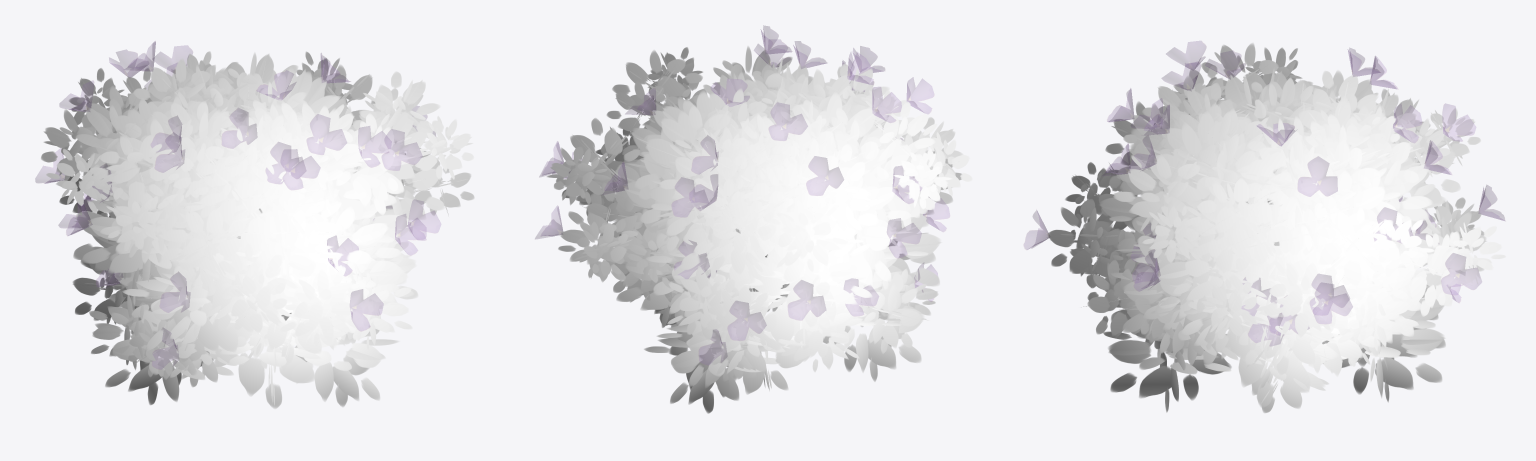
The model's file is bush-flowers.glb.
3 views of the same model, side by side, from view 1: azimuth 30°, elevation 25°; view 2: azimuth 150°, elevation 25°; view 3: azimuth 270°, elevation 25° (orthographic). The views are drawn at different scales.
Parts seen in each view (by area): view 1: tree_009; view 2: tree_009; view 3: tree_009.
Boxes of the visible parts, <box> form: tree_009: <box>35,41,474,408</box>; tree_009: <box>535,25,972,413</box>; tree_009: <box>1024,41,1505,412</box>.
Size of the model in its own units: 1.91 by 1.58 by 1.97.
2 materials, 2 textured.
